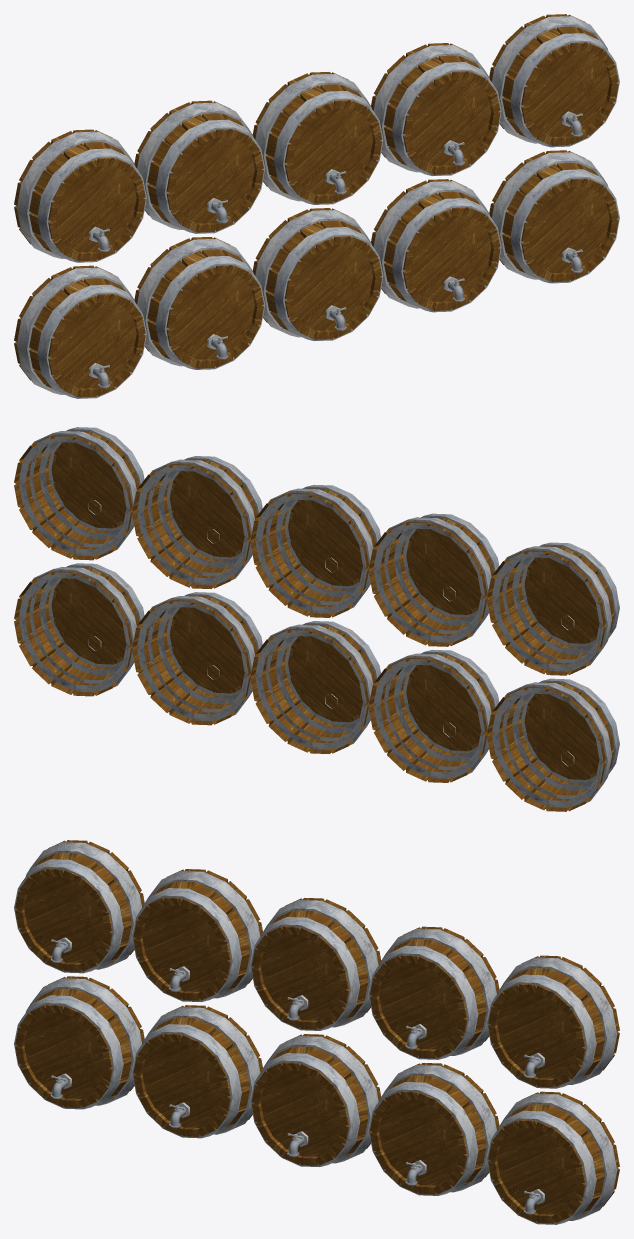
The model's file is BarrilParede.fbx.
3 views of the same model, one above another, from view 1: azimuth 30°, elevation 25°; view 2: azimuth 150°, elevation 25°; view 3: azimuth 330°, elevation 25° (orthographic).
Parts seen in each view (by area): view 1: ParedeBarril; view 2: ParedeBarril; view 3: ParedeBarril.
Boxes of the visible parts, x1,y1,x2,y2 form: ParedeBarril: [14, 14, 619, 398]; ParedeBarril: [14, 427, 619, 811]; ParedeBarril: [14, 840, 619, 1224].
Size of the model in its own units: 512 by 215 by 52.44.
